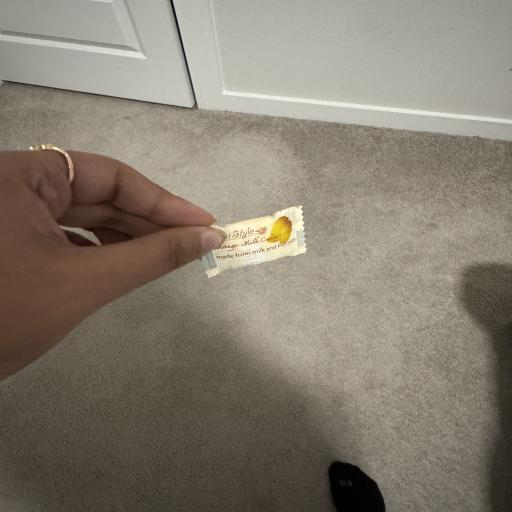chocolate: (202, 206, 306, 277)
